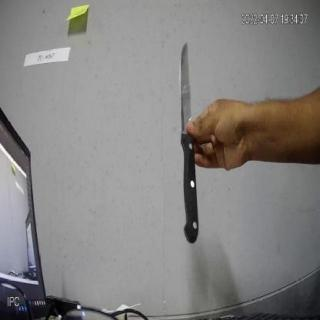knife: (171, 36, 211, 250)
